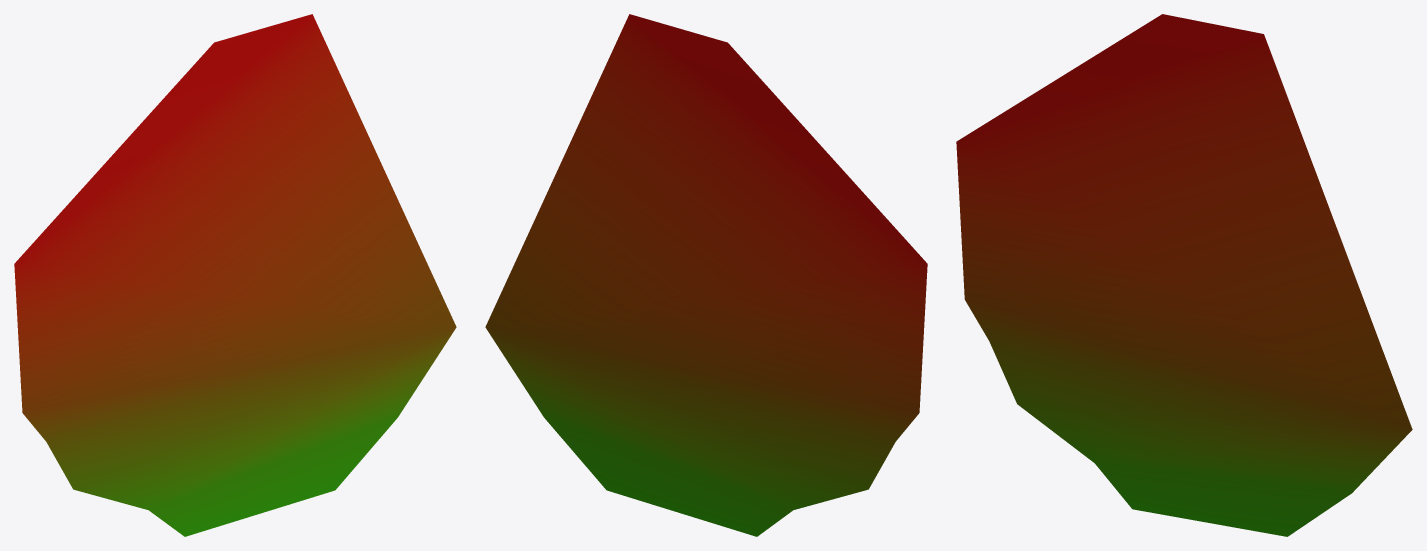
The model's file is Var4_LOD7.fbx.
3 views of the same model, side by side, from view 1: azimuth 30°, elevation 25°; view 2: azimuth 150°, elevation 25°; view 3: azimuth 330°, elevation 25° (orthographic). The views are drawn at different scales.
Parts seen in each view (by area): view 1: _8pnx_Var4_LOD7; view 2: _8pnx_Var4_LOD7; view 3: _8pnx_Var4_LOD7.
Boxes of the visible parts, <box> form: _8pnx_Var4_LOD7: <box>14,14,456,536</box>; _8pnx_Var4_LOD7: <box>485,14,927,536</box>; _8pnx_Var4_LOD7: <box>956,14,1412,536</box>.
Size of the model in its own units: 31.12 by 33.07 by 3.48e-07.
